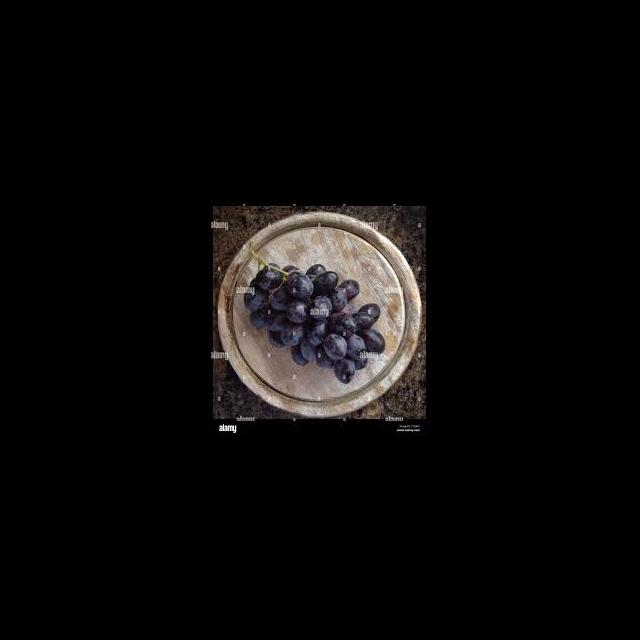grape: (244, 261, 386, 384)
